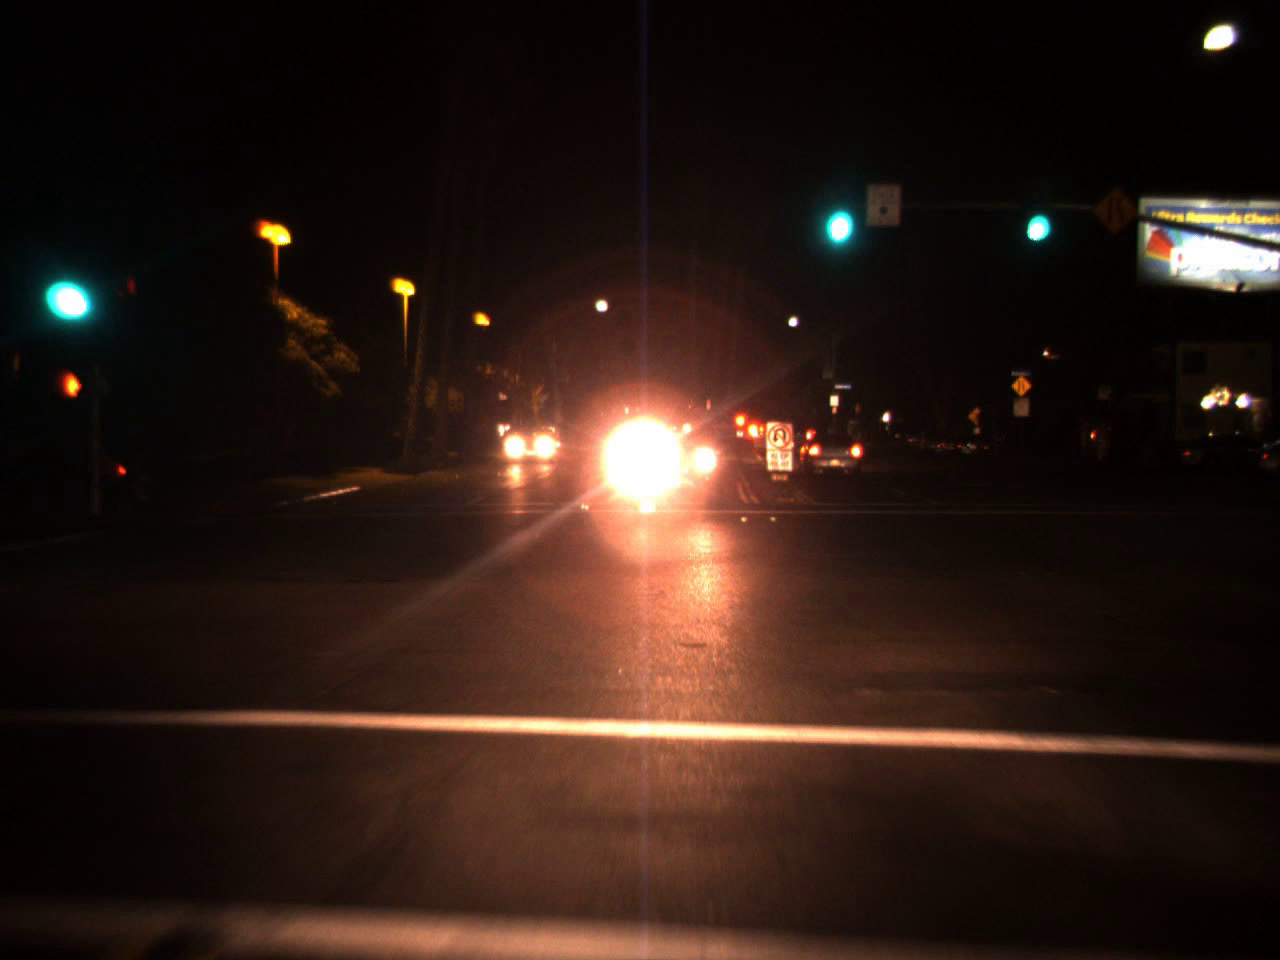go: (813, 170, 859, 257), (44, 249, 94, 327), (1018, 184, 1054, 247)
